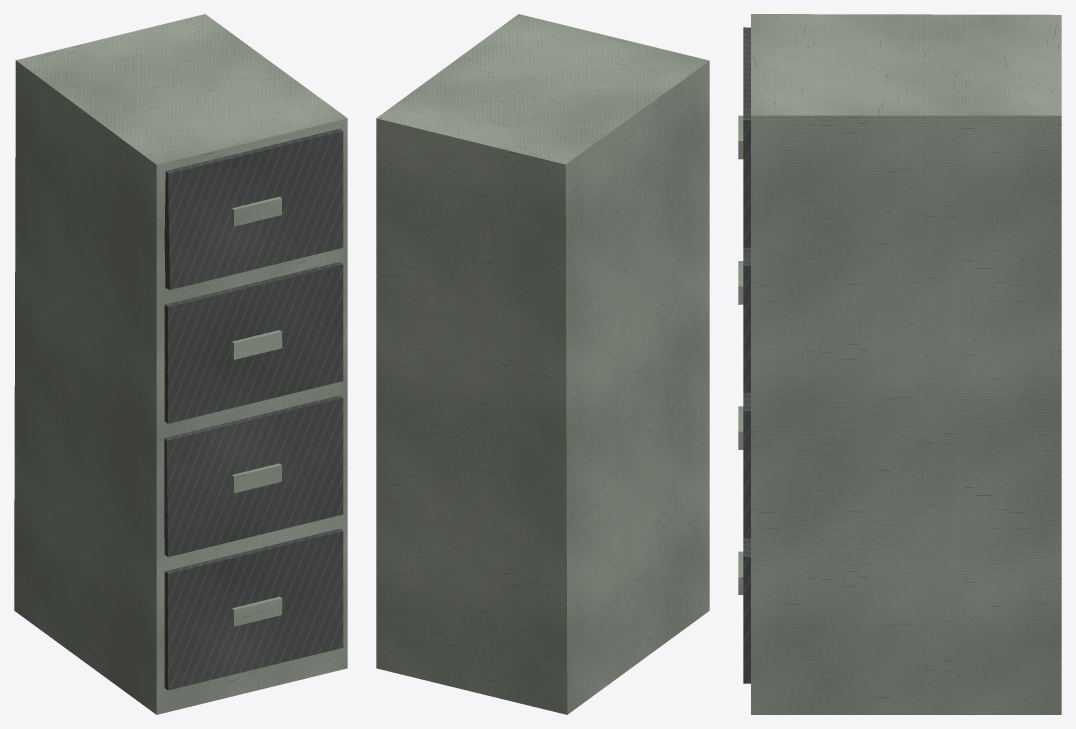
Rendered from cabinet_v1.glb.
3 renders of one model, left to right at view 1: azimuth 30°, elevation 25°; view 2: azimuth 150°, elevation 25°; view 3: azimuth 270°, elevation 25°, orthographic. The views are drawn at different scales.
Parts seen in each view (by area): view 1: Variant_cabinet_1; view 2: Variant_cabinet_1; view 3: Variant_cabinet_1.
Part boxes in pixels (left/top/right/bottom): Variant_cabinet_1: left=14, top=14, right=347, bottom=714; Variant_cabinet_1: left=376, top=14, right=709, bottom=714; Variant_cabinet_1: left=738, top=14, right=1061, bottom=714.
Size of the model in its own units: 0.48 by 1.32 by 0.645.
Materials: 2 (2 with a texture image).
